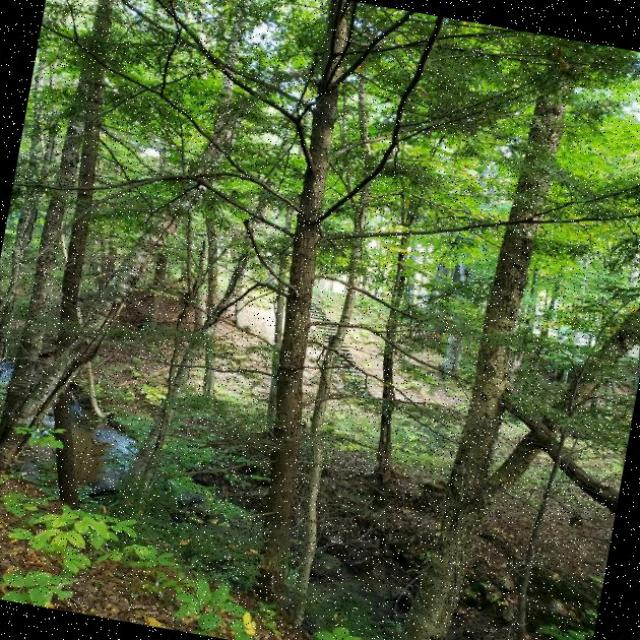fallen_object: (445, 360, 637, 541)
